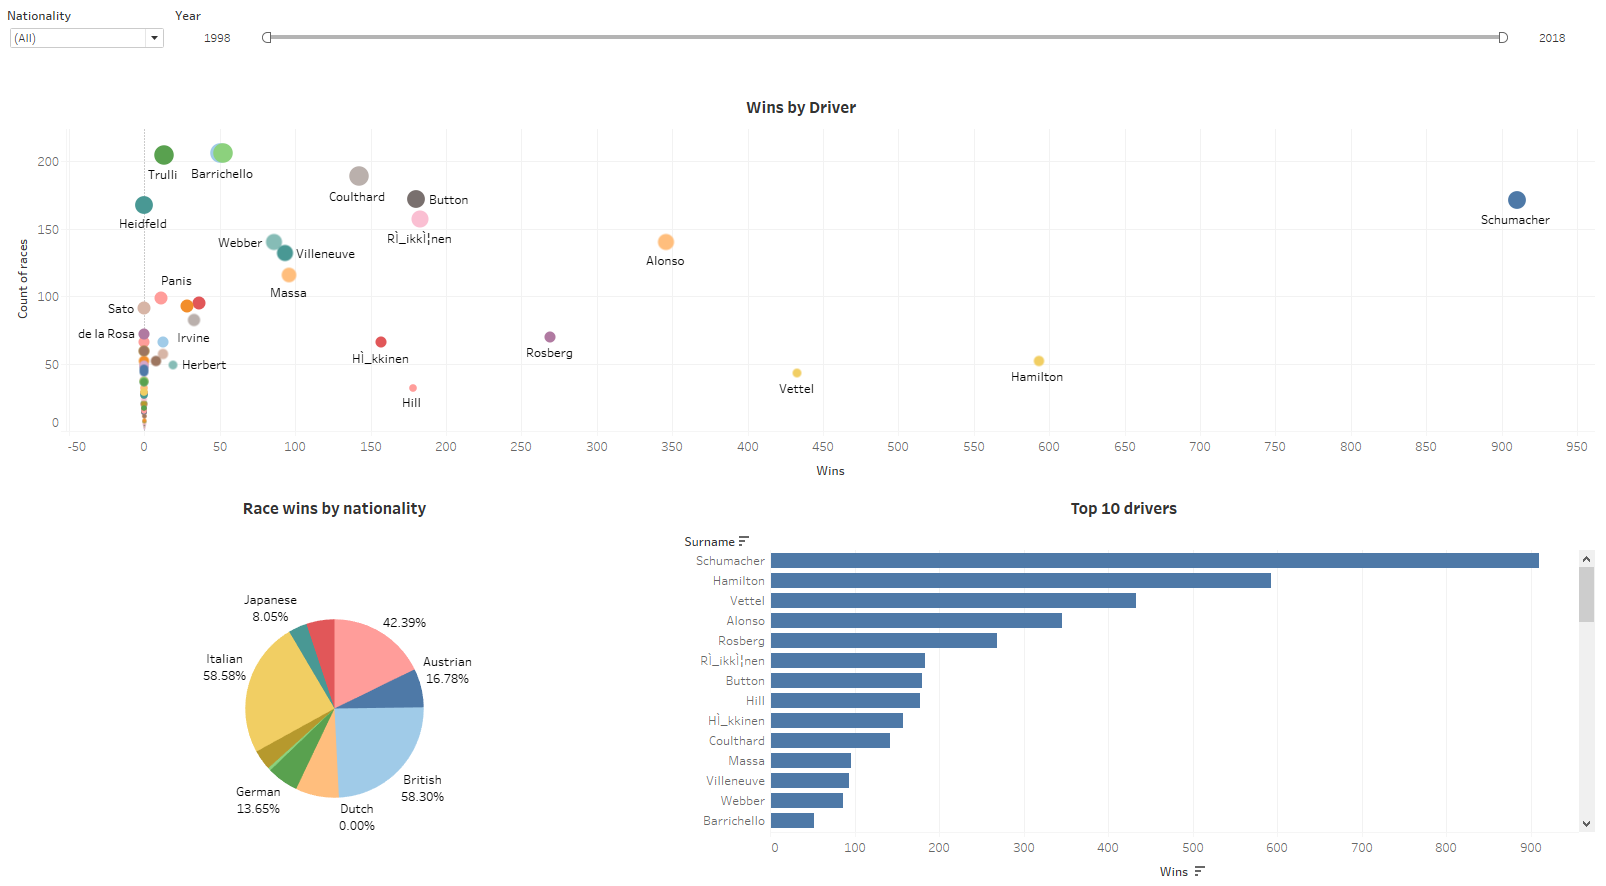

Layout of this report page (visuals, bound fields, positions):
{"tool":"tableau","page":{"name":"Driver Overview","canvas":[1000,1000],"units":"permille","ordinal":3},"visuals":[{"type":"filter","title":"Race wins by nationality","param":"[federated.1dxn3xd1m3a6sv19biwc20t9l485].[none:nationality:nk]","box":[5.1,8.8,106.7,94]},{"type":"filter","title":"Wins by Driver","param":"[federated.1dxn3xd1m3a6sv19biwc20t9l485].[none:year:qk]","box":[111.8,8.8,883.1,94]},{"type":"worksheet","title":"Wins by Driver","mark":"Automatic","rows":["races_E0669E317AAB4FC28C13AFFE63FB9220"],"cols":["wins"],"box":[5.1,102.8,989.8,444.2]},{"type":"worksheet","title":"Race wins by nationality","mark":"Pie","box":[5.1,547,411.4,444.2]},{"type":"worksheet","title":"Top 10 drivers","mark":"Bar","rows":["surname"],"cols":["wins"],"box":[416.5,547,578.4,444.2]}]}

Visuals, with their boxes on the dashboard's canvas, which has no fixed pixel size, in thousandths of its width and height (x1, y1, x2, y2). These are canvas units, not pixel positions in the 1606x886 screenshot, which may show the page scaled, cropped or inside an application window:
"Race wins by nationality" filter: x1=5, y1=9, x2=112, y2=103
"Wins by Driver" filter: x1=112, y1=9, x2=995, y2=103
"Wins by Driver" worksheet: x1=5, y1=103, x2=995, y2=547
"Race wins by nationality" worksheet (Pie marks): x1=5, y1=547, x2=416, y2=991
"Top 10 drivers" worksheet (Bar marks): x1=416, y1=547, x2=995, y2=991
